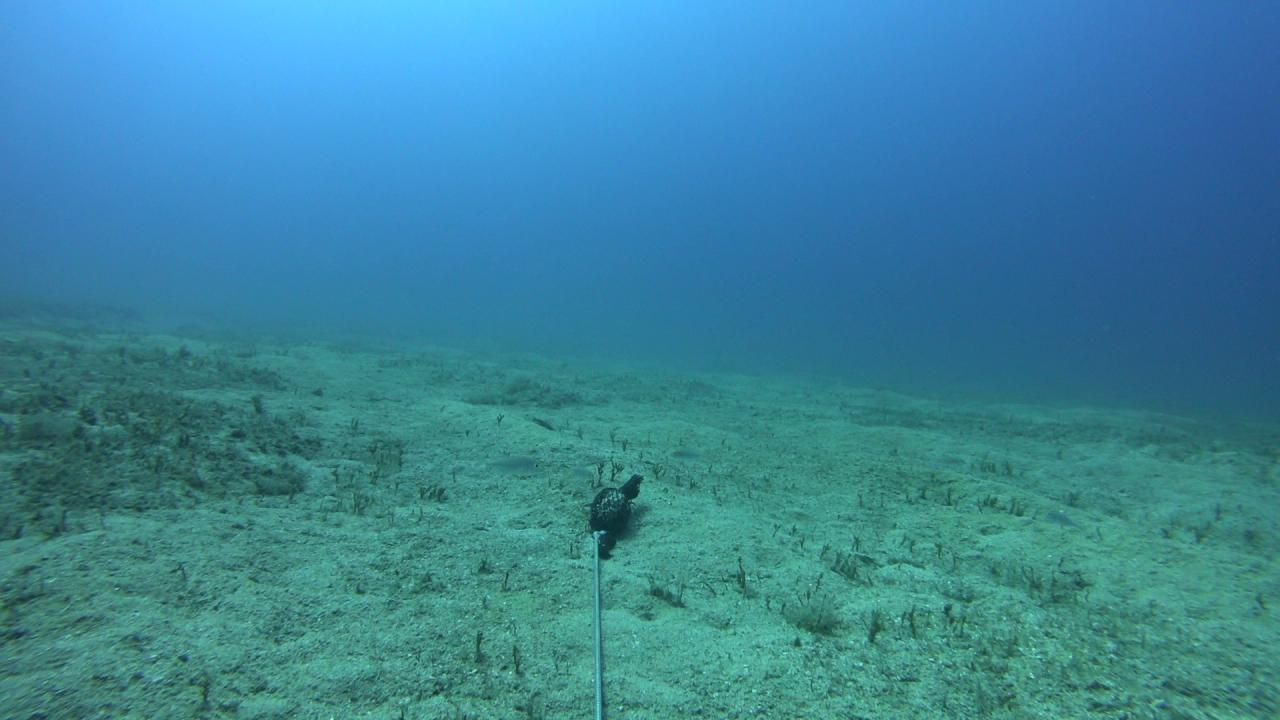pagellus: (470, 453, 549, 478), (670, 449, 701, 461)
